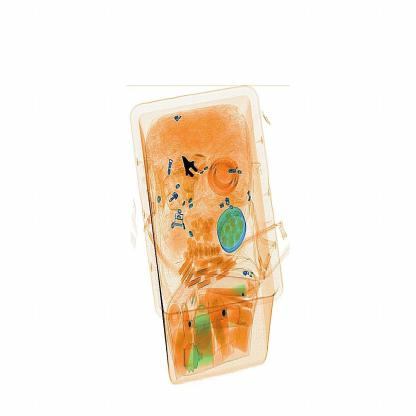gun: (172, 147, 219, 207)
